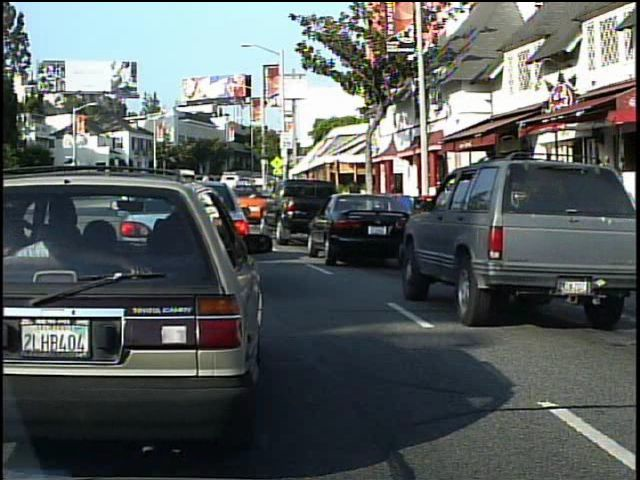person: (588, 148, 622, 236)
